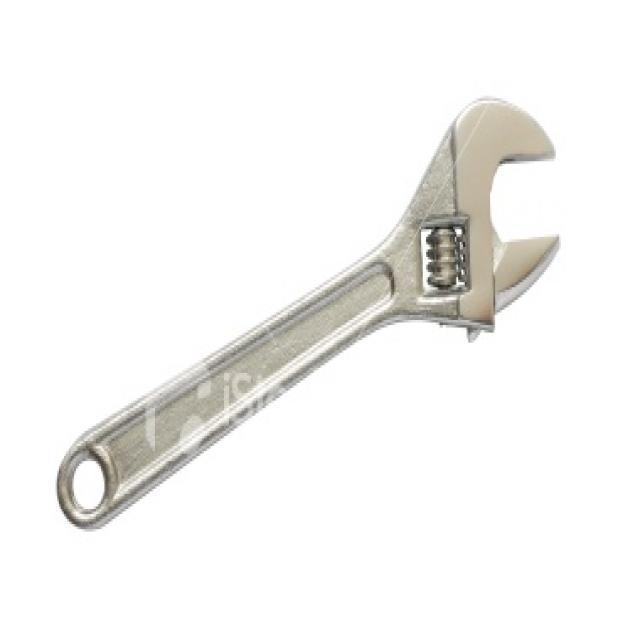wrench: (44, 88, 560, 533)
